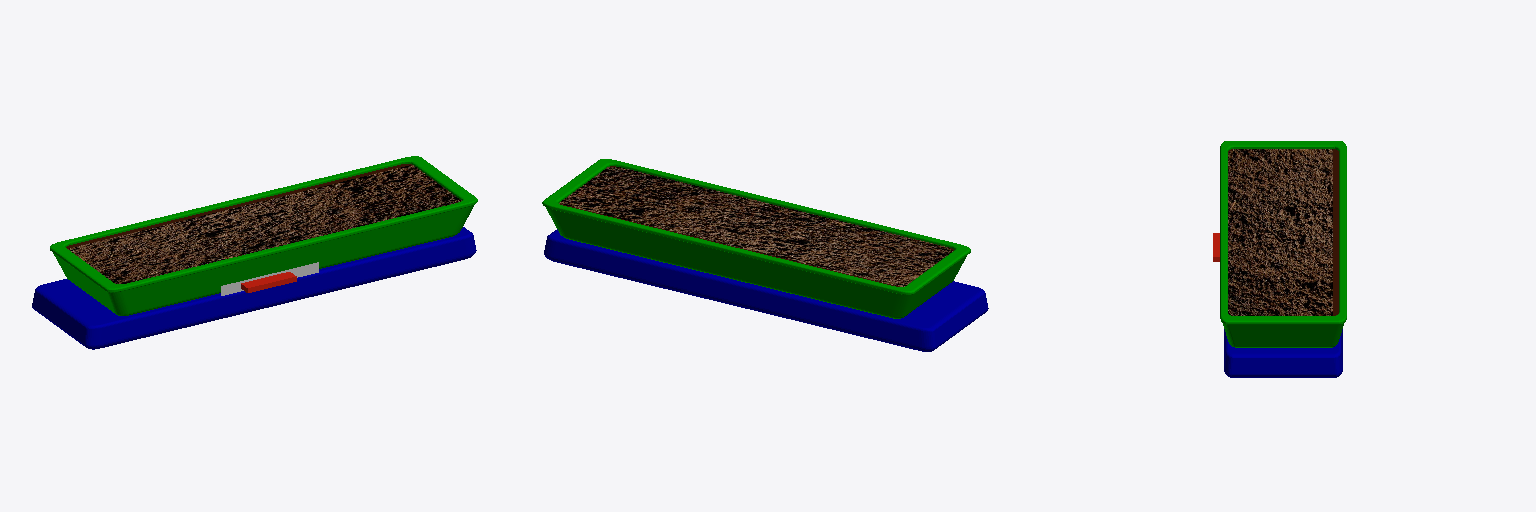
The picture shows the model from 3 angles: view 1: azimuth 30°, elevation 25°; view 2: azimuth 150°, elevation 25°; view 3: azimuth 270°, elevation 25°; orthographic projection.
Visible parts, largest first — view 1: soil_layer_TurfAssembly.002, truf_top_TurfAssembly.001, truf_base_TurfAssembly, Cube, Plane; view 2: soil_layer_TurfAssembly.002, truf_top_TurfAssembly.001, truf_base_TurfAssembly; view 3: soil_layer_TurfAssembly.002, truf_top_TurfAssembly.001, truf_base_TurfAssembly.
Boxes of the visible parts, x1=… form: soil_layer_TurfAssembly.002: x1=66, y1=164, x2=461, y2=283; truf_top_TurfAssembly.001: x1=50, y1=156, x2=477, y2=315; truf_base_TurfAssembly: x1=32, y1=227, x2=476, y2=349; Cube: x1=241, y1=272, x2=296, y2=292; Plane: x1=221, y1=262, x2=318, y2=295; soil_layer_TurfAssembly.002: x1=559, y1=166, x2=953, y2=286; truf_top_TurfAssembly.001: x1=542, y1=159, x2=970, y2=318; truf_base_TurfAssembly: x1=544, y1=229, x2=988, y2=351; soil_layer_TurfAssembly.002: x1=1228, y1=149, x2=1338, y2=315; truf_top_TurfAssembly.001: x1=1220, y1=141, x2=1346, y2=347; truf_base_TurfAssembly: x1=1224, y1=329, x2=1342, y2=377.
Bounding box in the file's own units: 1.5 × 0.22 × 0.4435.
Materials: 5 (1 with a texture image).